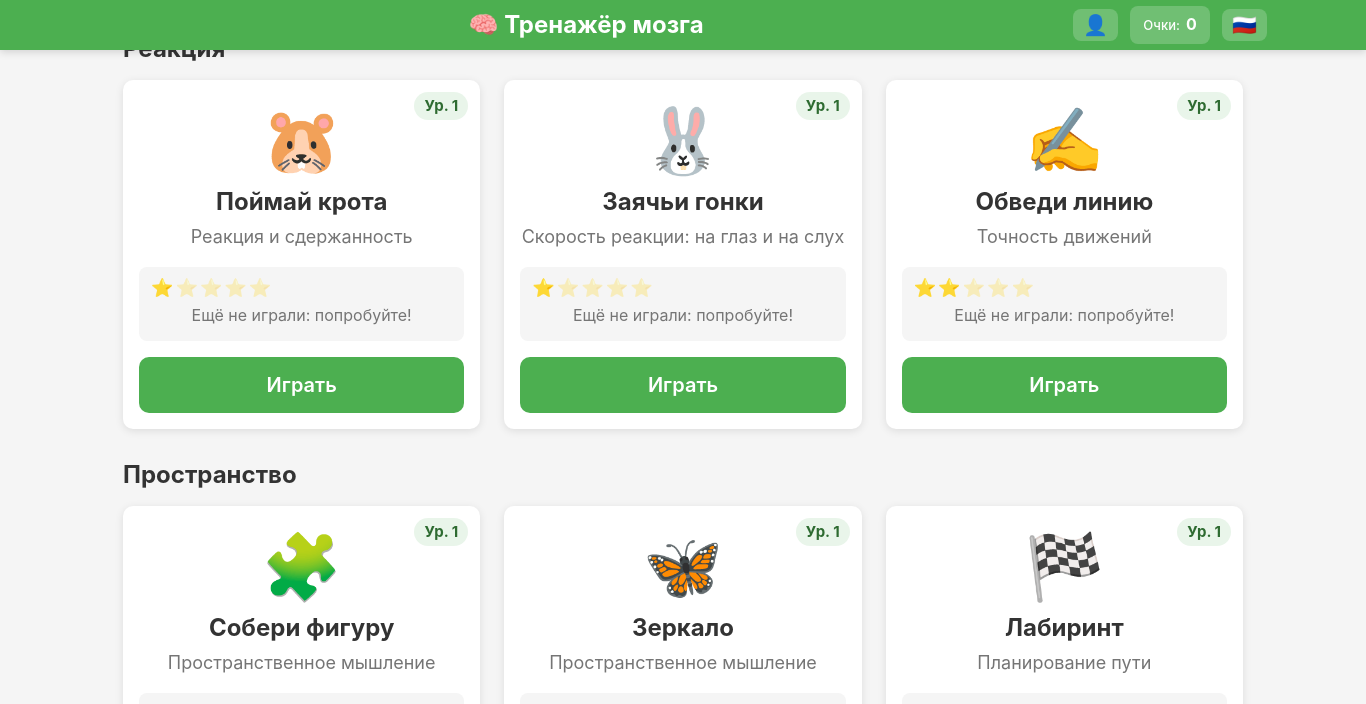
App › should handle navigation to different games
(page scrolled)
// Переход к первой игре (Reaction Click)
Click the button "Играть" below "Скорость реакции: на глаз и на слух" at (683, 385), box [520,357,846,413]
(page scrolled)
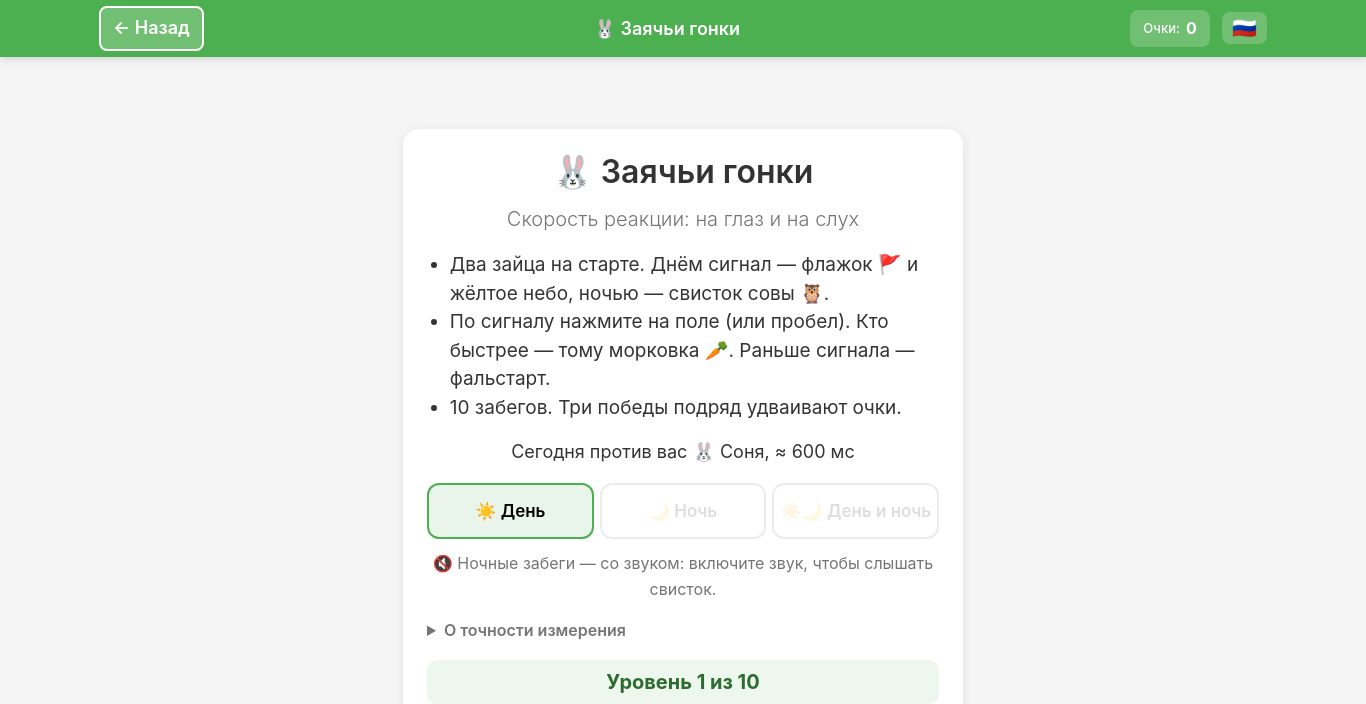
// Возврат в меню
Click the button with class "back-button" at (151, 28), box [99,6,204,51]
(page scrolled)
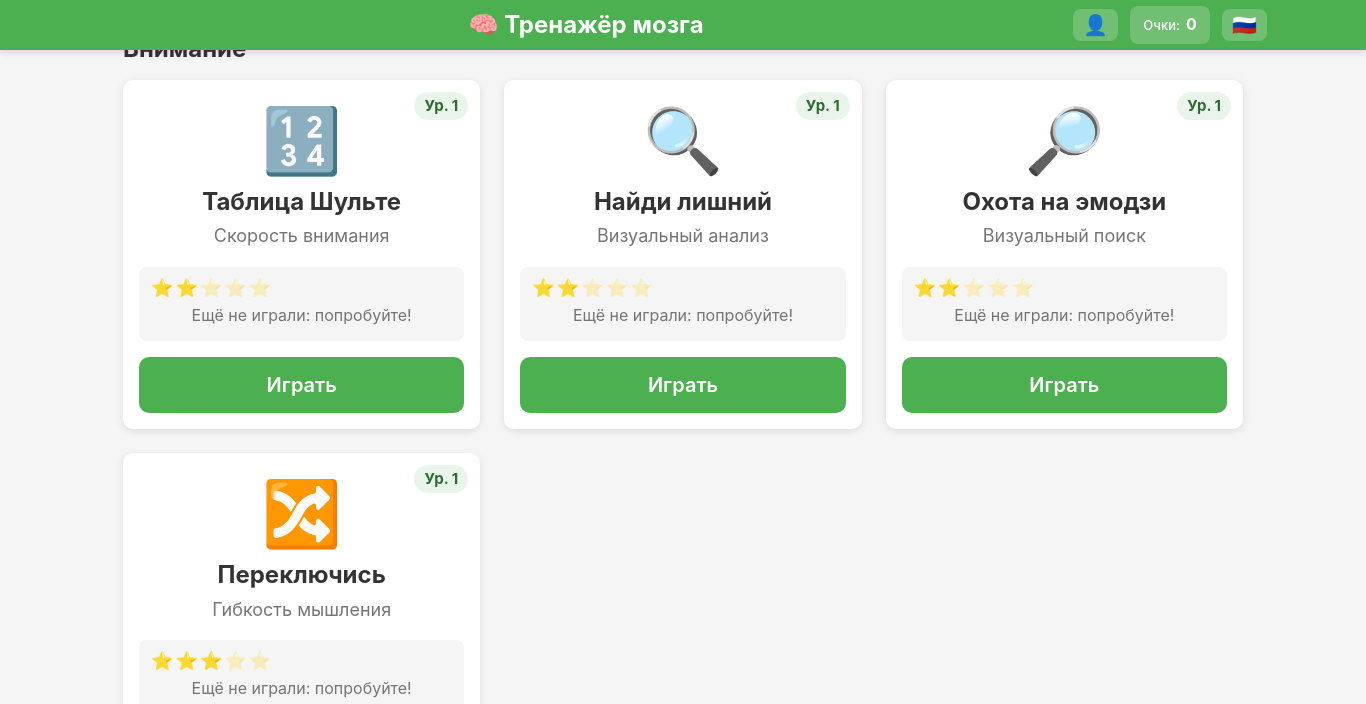
// Переход ко второй игре (Odd One Out)
Click the button "Играть" below "Визуальный анализ" at (683, 385), box [520,357,846,413]
(page scrolled)
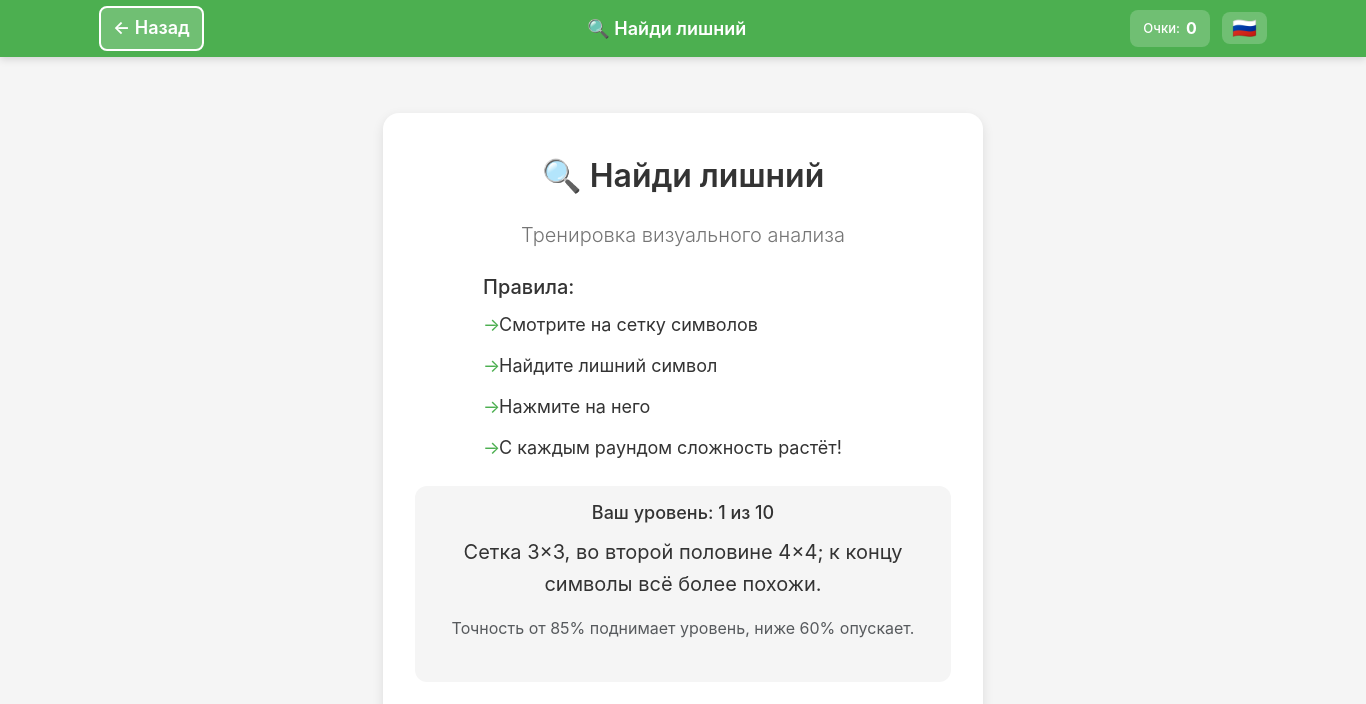
Now the heading "Ваш уровень: 1 из 10" is shown, box [592,502,774,523]
